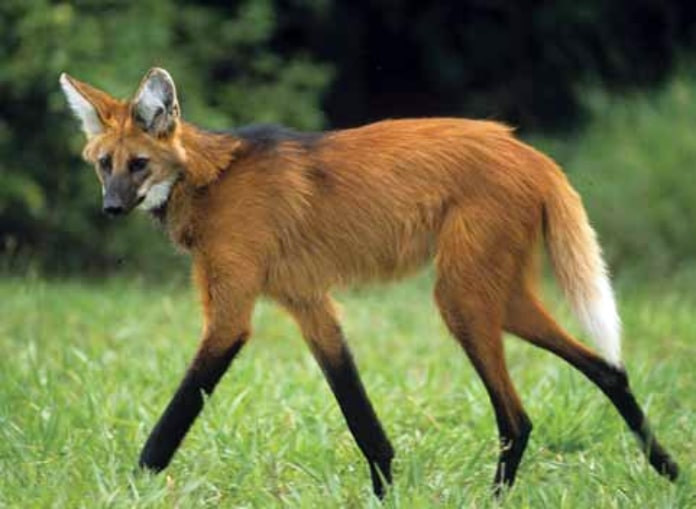LoboGuara: (39, 61, 687, 491)
